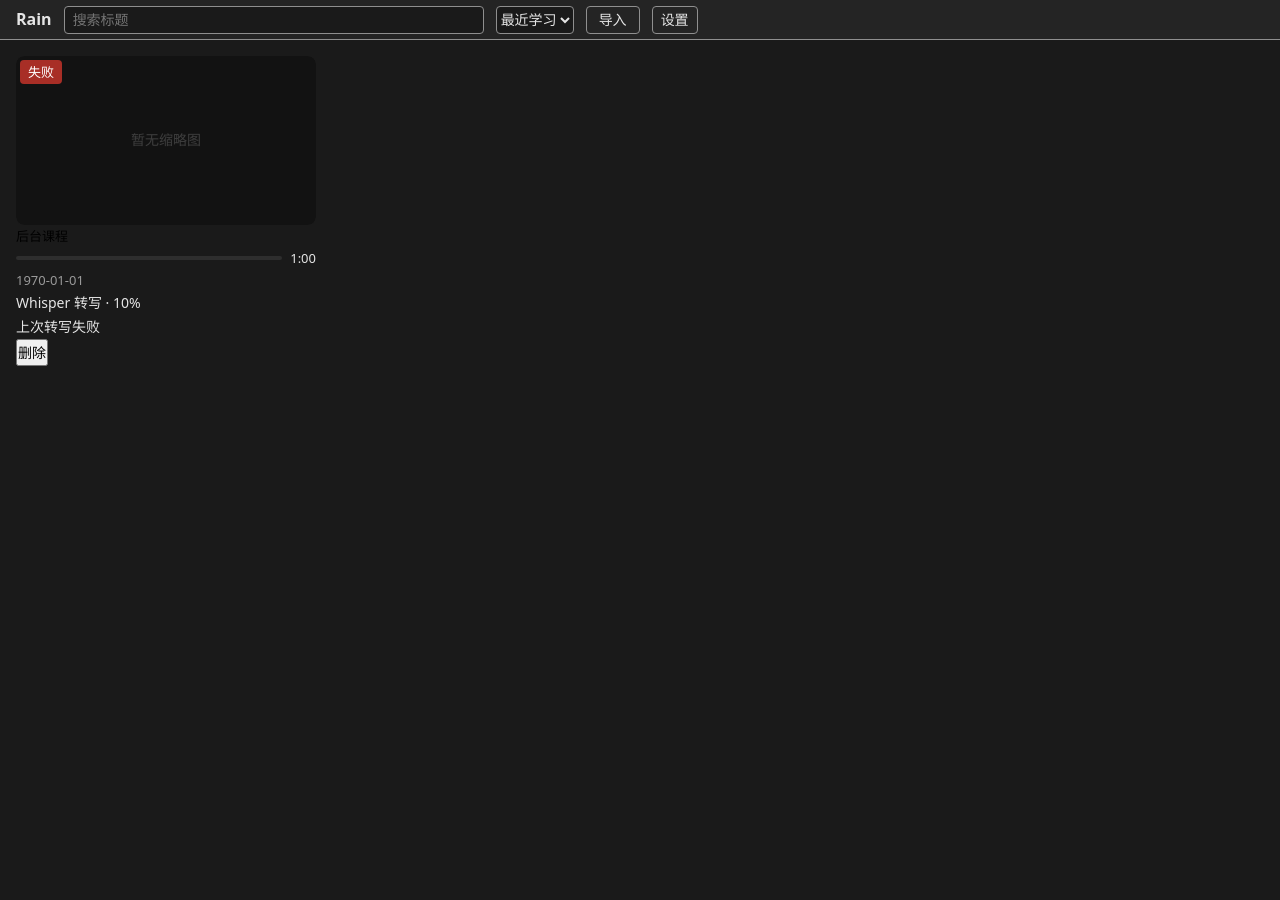
AC-LV-19 and AC-LV-20 import task details › keeps an active task running when its detail dialog closes
Click the text "后台课程".
click(42, 236)  # box [16, 227, 68, 245]
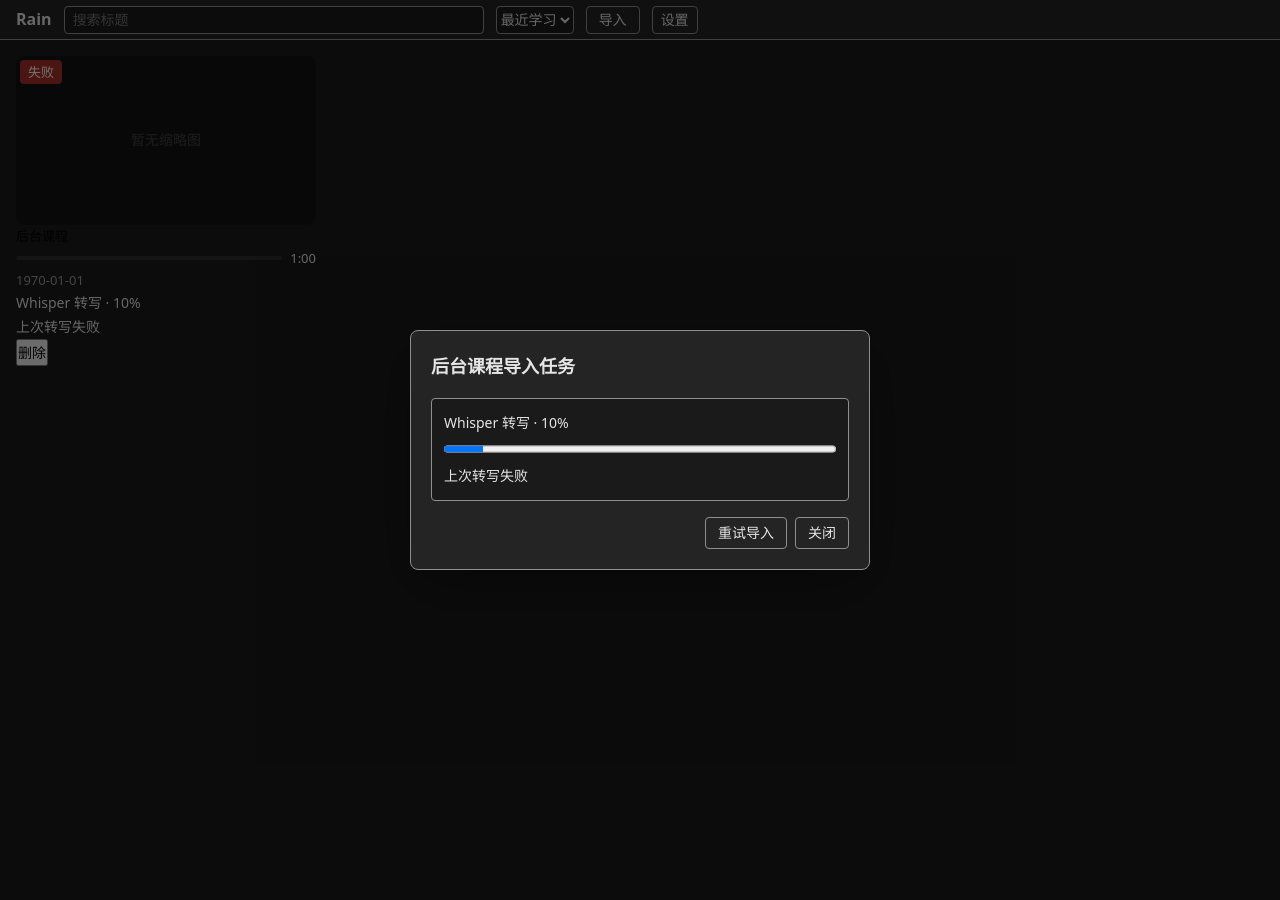
Click the button "重试导入".
click(746, 533)  # box [705, 517, 787, 549]
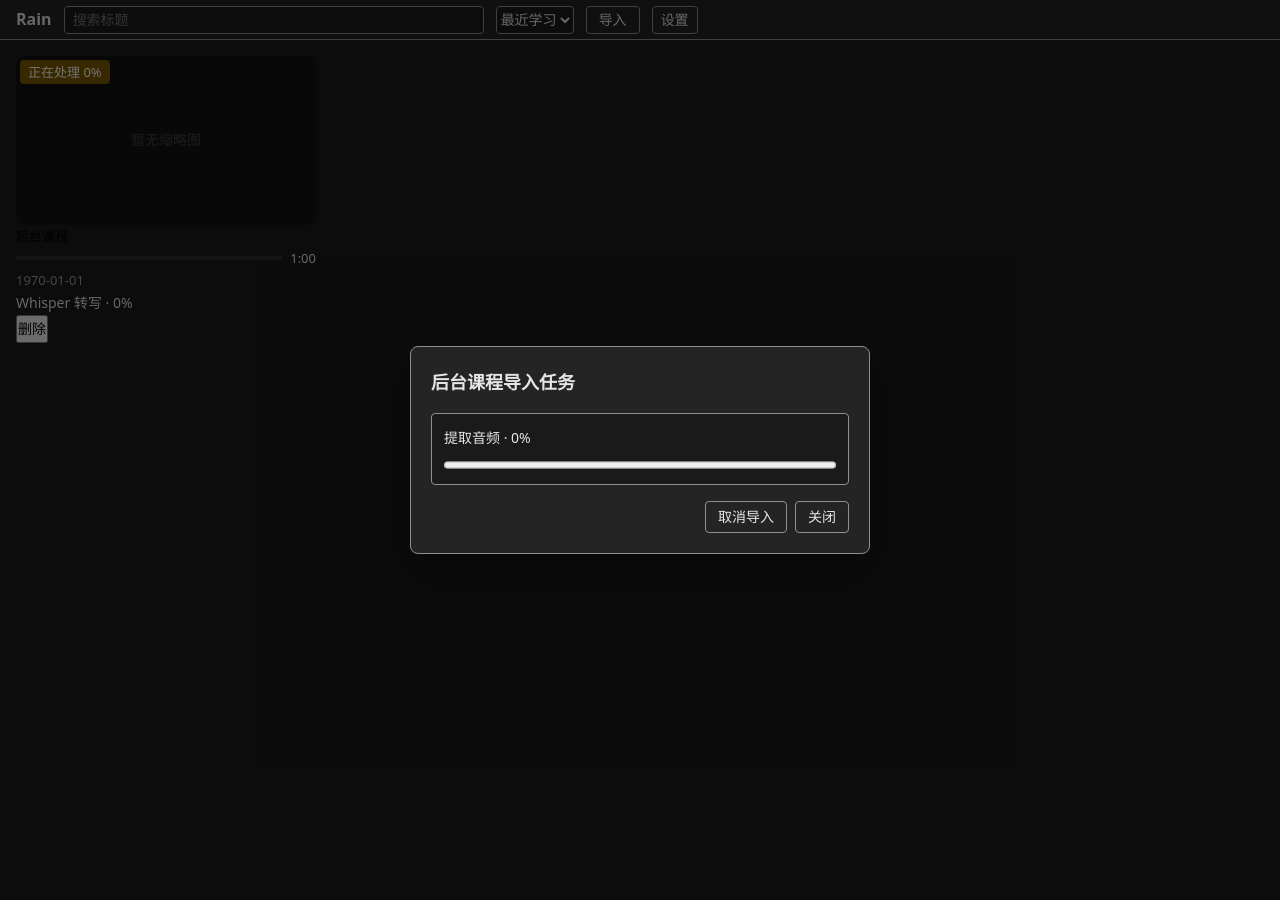
Click the button "关闭".
click(822, 517)  # box [795, 501, 849, 533]
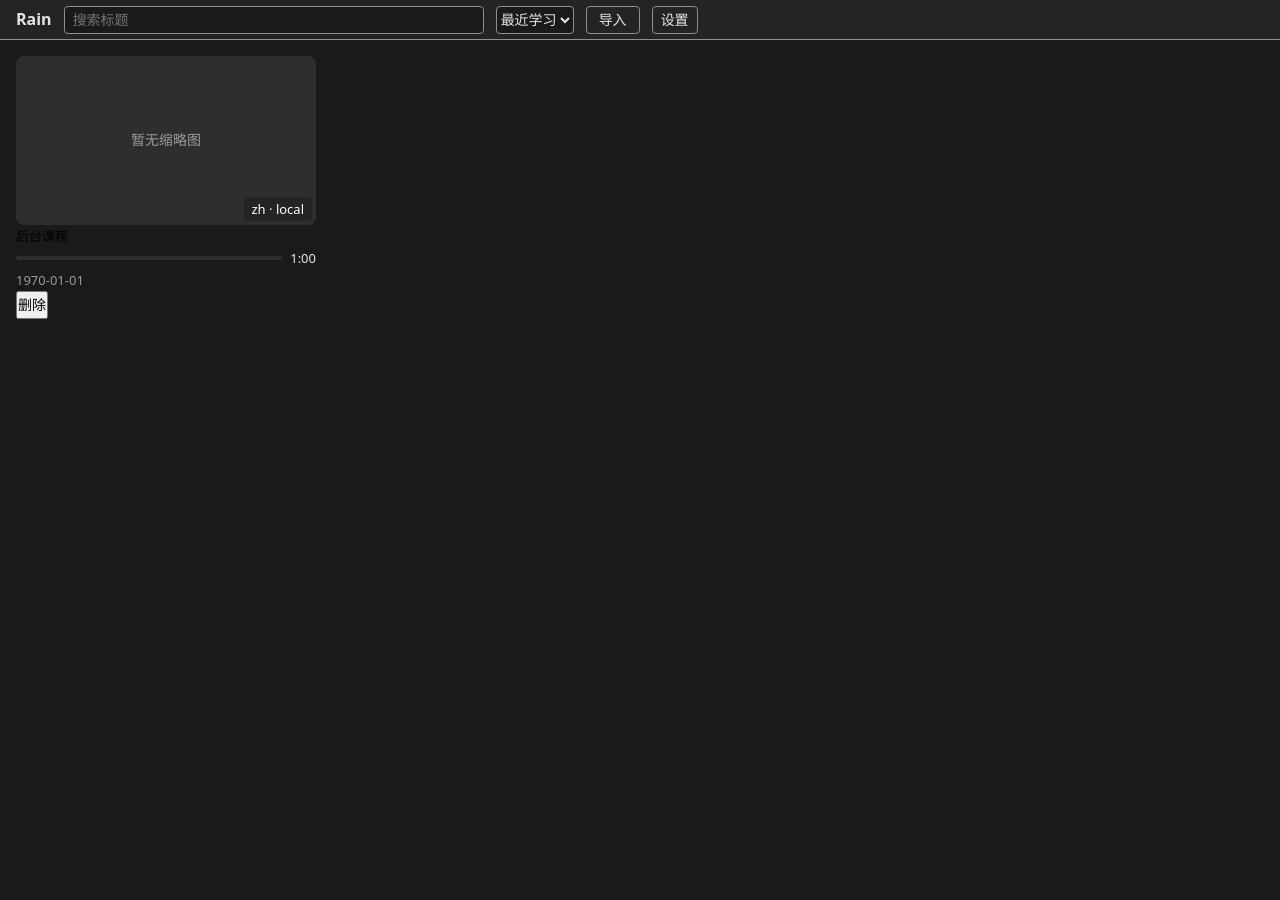
Expected: the dialog is gone
